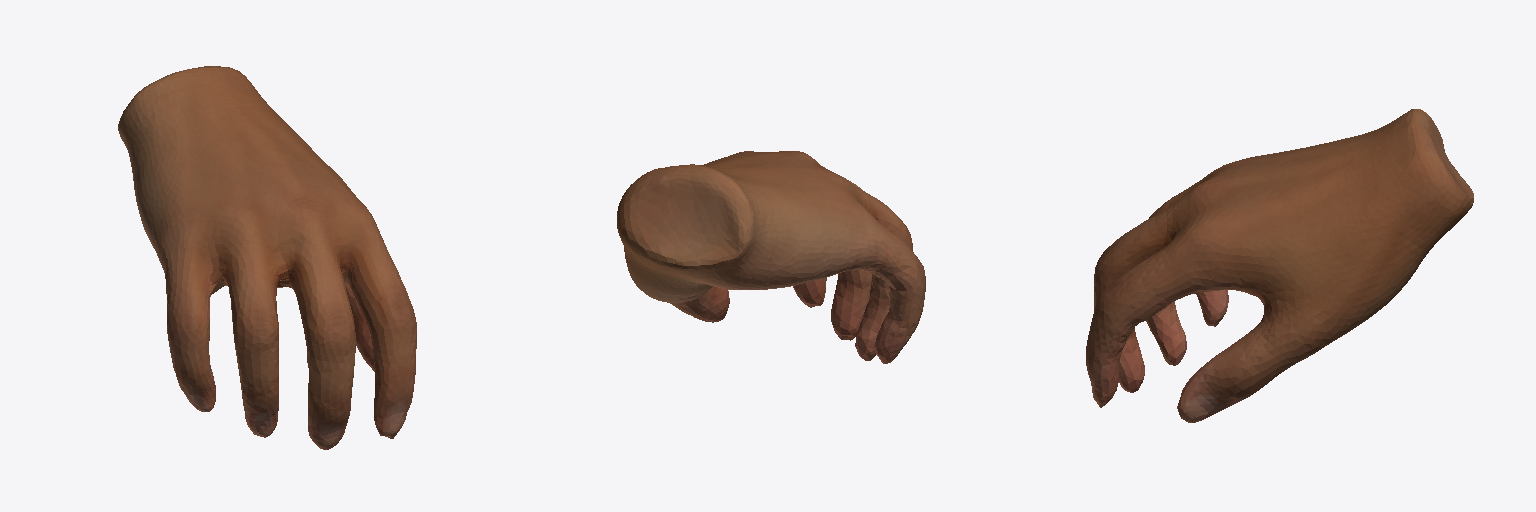
The picture shows the model from 3 angles: view 1: azimuth 30°, elevation 25°; view 2: azimuth 150°, elevation 25°; view 3: azimuth 270°, elevation 25°; orthographic projection.
Bounding box in the file's own units: 0.1045 × 0.1143 × 0.1463.
Materials: 1 (1 with a texture image).